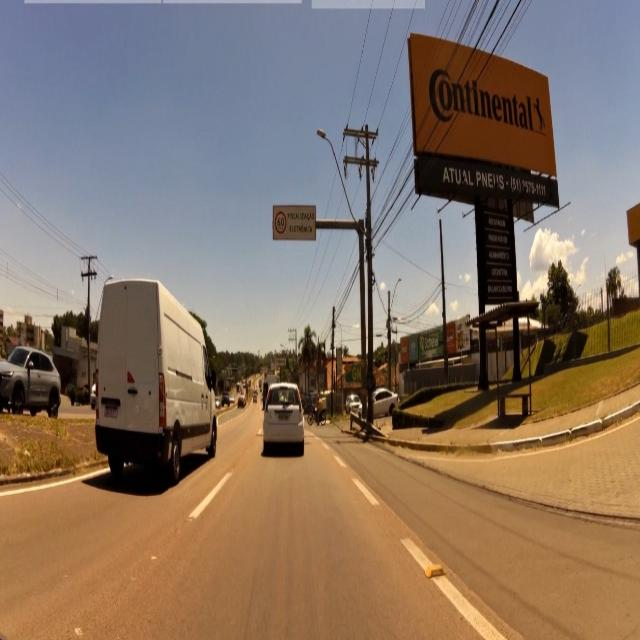R-19: (274, 210, 288, 236)
